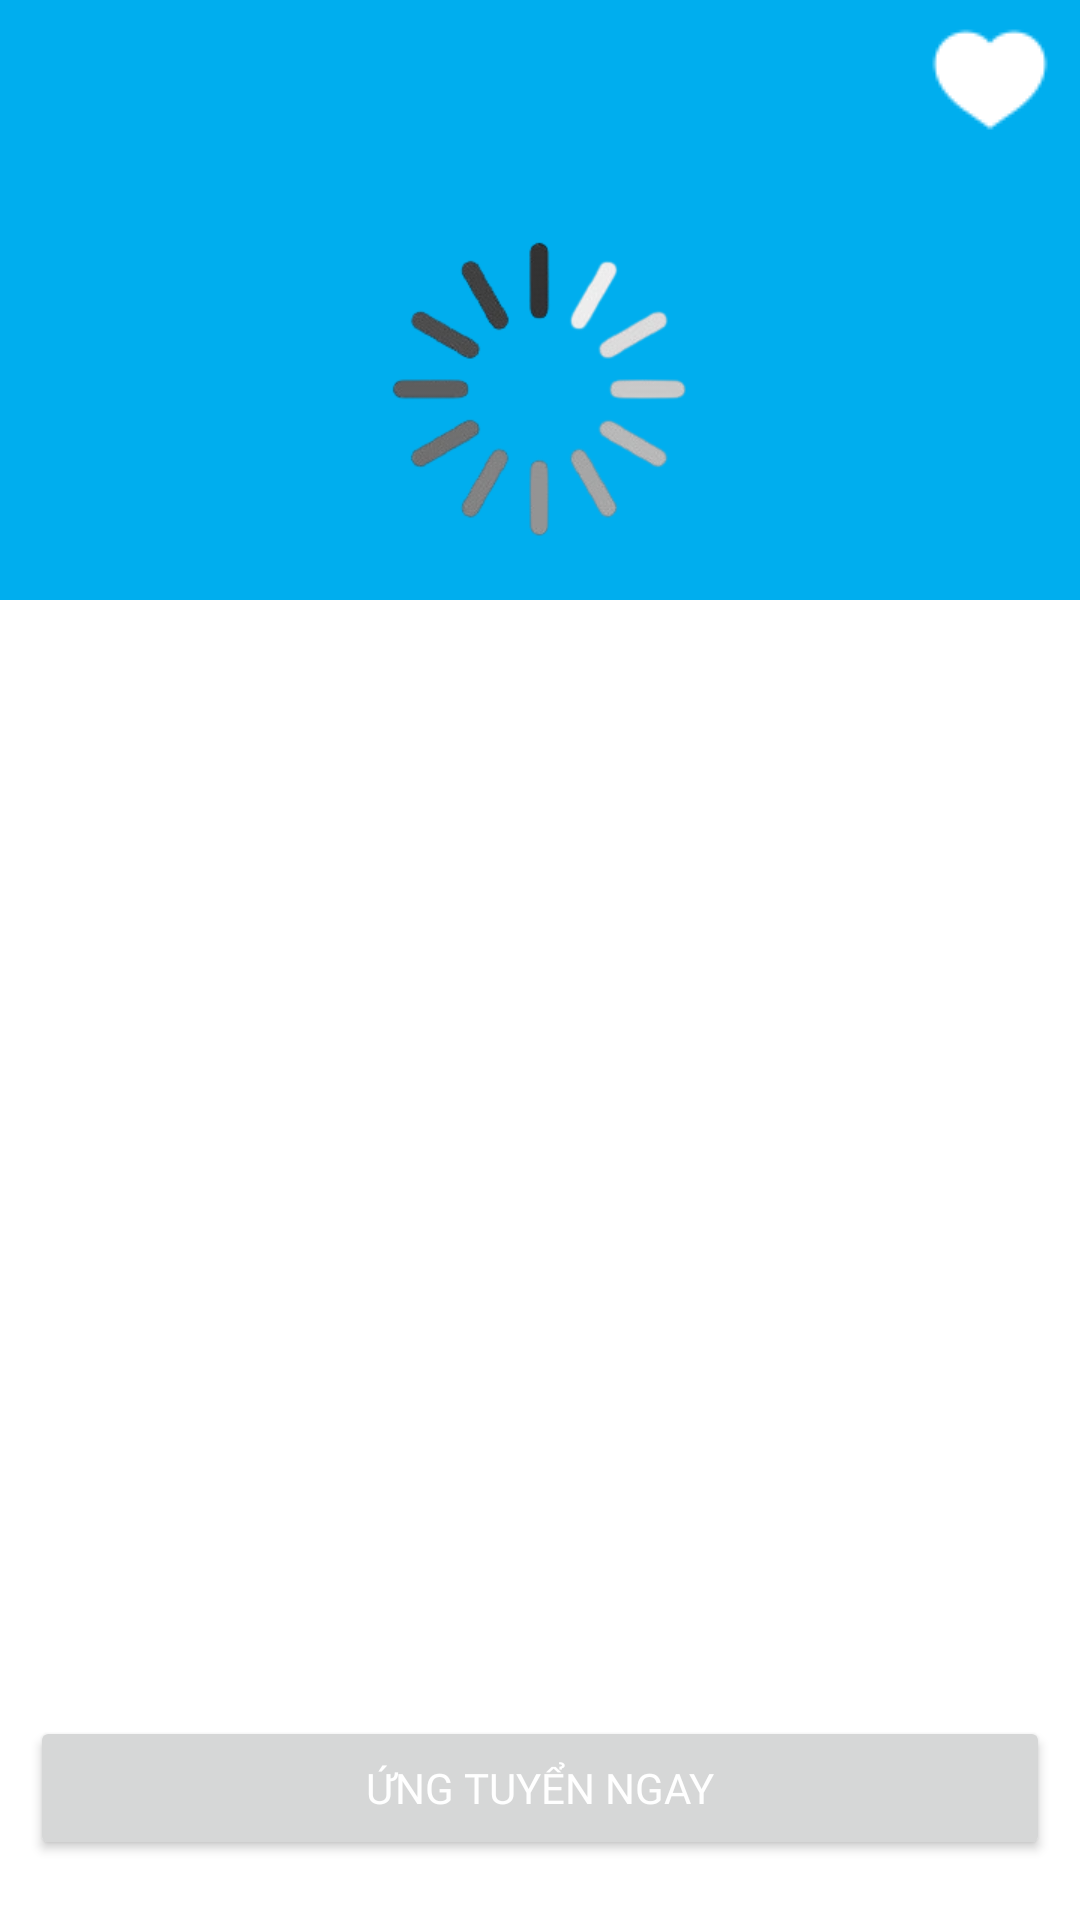

Screen size 1080 × 1920. Icon name, then its center in pixels as (x=x, y=y):
heart: (x=990, y=79)
loading: (x=539, y=389)
